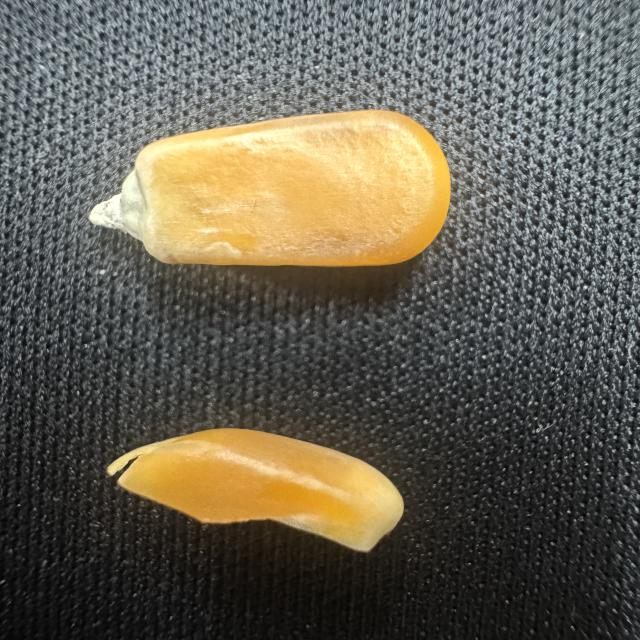Bad-Seed: (85, 416, 436, 570)
Good-Seed: (72, 103, 482, 281)
